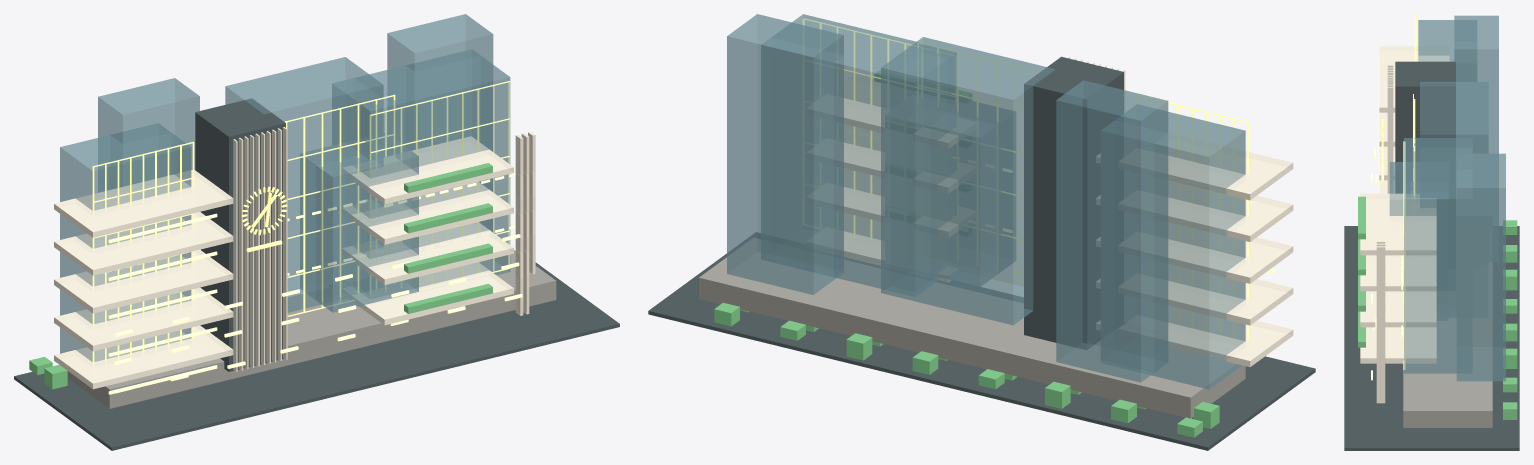
The model's file is hatosfera-building.gltf.
3 renders of one model, left to right at view 1: azimuth 30°, elevation 25°; view 2: azimuth 150°, elevation 25°; view 3: azimuth 270°, elevation 25°, orthographic. The views are drawn at different scales.
Parts seen in each view (by area): view 1: reflective-plaza, right-glass-tower, center-glass-mass, center-connector, left-glass-core, right-back-tower, podium-base, logo-tower, left-back-core, left-terrace-slab-0, left-terrace-slab-2, left-terrace-slab-1 (+20 smaller); view 2: right-glass-tower, center-glass-mass, left-glass-core, left-back-core, right-back-tower, podium-base, logo-tower, reflective-plaza, center-connector, left-terrace-slab-0, left-terrace-slab-3, left-terrace-slab-4 (+6 smaller); view 3: right-glass-tower, reflective-plaza, right-back-tower, center-glass-mass, podium-base, left-back-core, logo-tower, right-terrace-slab-0, center-connector, left-glass-core, right-terrace-slab-3, right-terrace-slab-1 (+22 smaller).
Boxes of the visible parts, x1,y1,x2,y2 form: reflective-plaza: (14, 262, 619, 450); right-glass-tower: (332, 49, 510, 295); center-glass-mass: (225, 57, 383, 312); center-connector: (300, 133, 418, 312); left-glass-core: (60, 123, 191, 361); right-back-tower: (387, 14, 493, 231); podium-base: (60, 250, 556, 408); logo-tower: (195, 98, 285, 371); left-back-core: (98, 78, 199, 192); left-terrace-slab-0: (54, 170, 233, 237); left-terrace-slab-2: (54, 250, 233, 313); left-terrace-slab-1: (54, 212, 233, 275); right-glass-tower: (761, 14, 956, 296); center-glass-mass: (881, 37, 1055, 325); left-glass-core: (1101, 104, 1245, 389); left-back-core: (1056, 80, 1168, 382); right-back-tower: (727, 14, 843, 294); podium-base: (699, 238, 1245, 418); logo-tower: (1024, 56, 1123, 349); reflective-plaza: (648, 232, 1315, 450); center-connector: (906, 98, 1015, 286); left-terrace-slab-0: (1096, 133, 1293, 200); left-terrace-slab-3: (1096, 264, 1293, 325); left-terrace-slab-4: (1096, 306, 1293, 366); right-glass-tower: (1404, 138, 1472, 373); reflective-plaza: (1344, 226, 1519, 450); right-back-tower: (1456, 153, 1505, 381); center-glass-mass: (1420, 82, 1488, 317); podium-base: (1403, 262, 1492, 427); left-back-core: (1454, 15, 1498, 261); logo-tower: (1395, 61, 1455, 193); right-terrace-slab-0: (1360, 193, 1436, 255); center-connector: (1389, 162, 1448, 320); left-glass-core: (1418, 20, 1476, 81); right-terrace-slab-3: (1360, 327, 1436, 363); right-terrace-slab-1: (1360, 255, 1436, 291).
Bounding box in the file's own units: 6.6 × 3.4 × 2.2.
